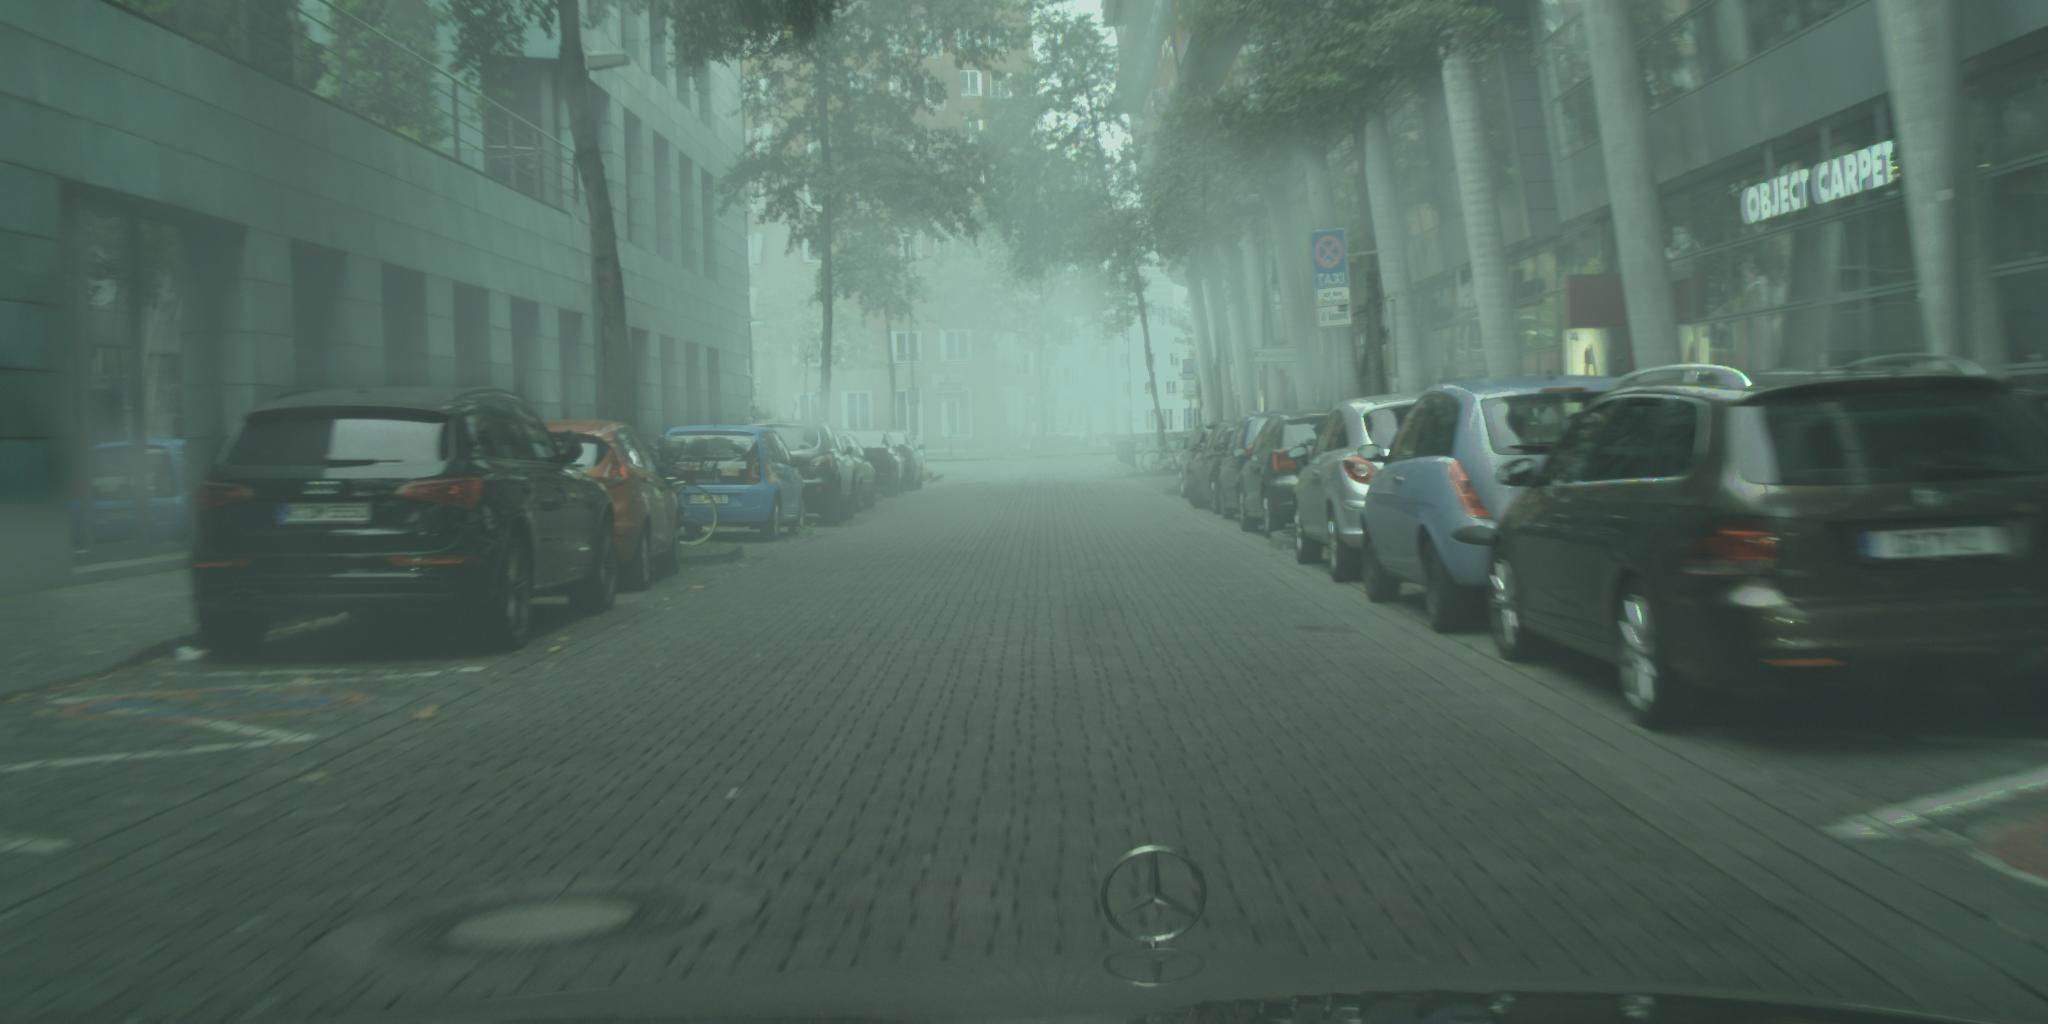bicycle: (633, 438, 722, 549), (1140, 438, 1191, 475)
car: (1486, 354, 2048, 734), (191, 387, 619, 666), (1357, 377, 1635, 636), (519, 421, 688, 592), (1290, 394, 1437, 585), (640, 426, 808, 543), (1236, 410, 1344, 539), (742, 421, 857, 528), (1213, 411, 1294, 524), (1183, 423, 1249, 516), (833, 431, 906, 500), (837, 435, 880, 516), (1181, 426, 1221, 512), (882, 431, 927, 494)
